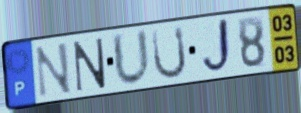8: (236, 15, 268, 70)
J: (199, 16, 234, 77)
N: (34, 40, 74, 100), (72, 36, 108, 94)
U: (110, 27, 153, 89), (150, 23, 189, 82)
